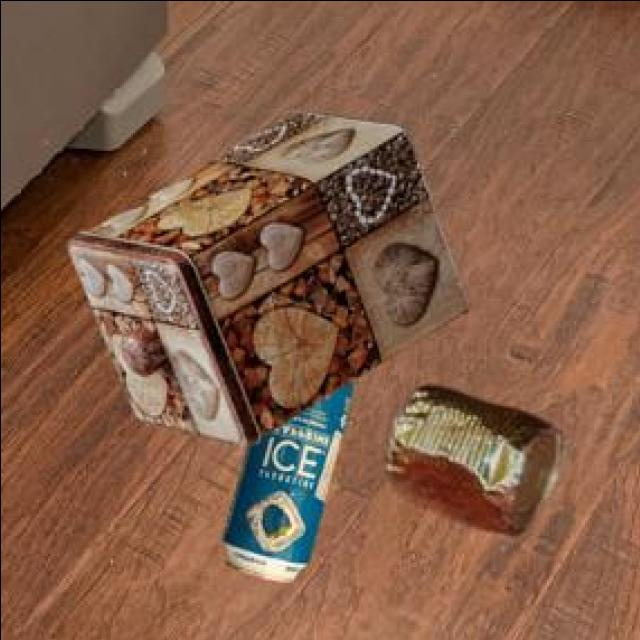logam: (70, 106, 471, 442), (388, 384, 570, 531), (227, 377, 355, 578)
